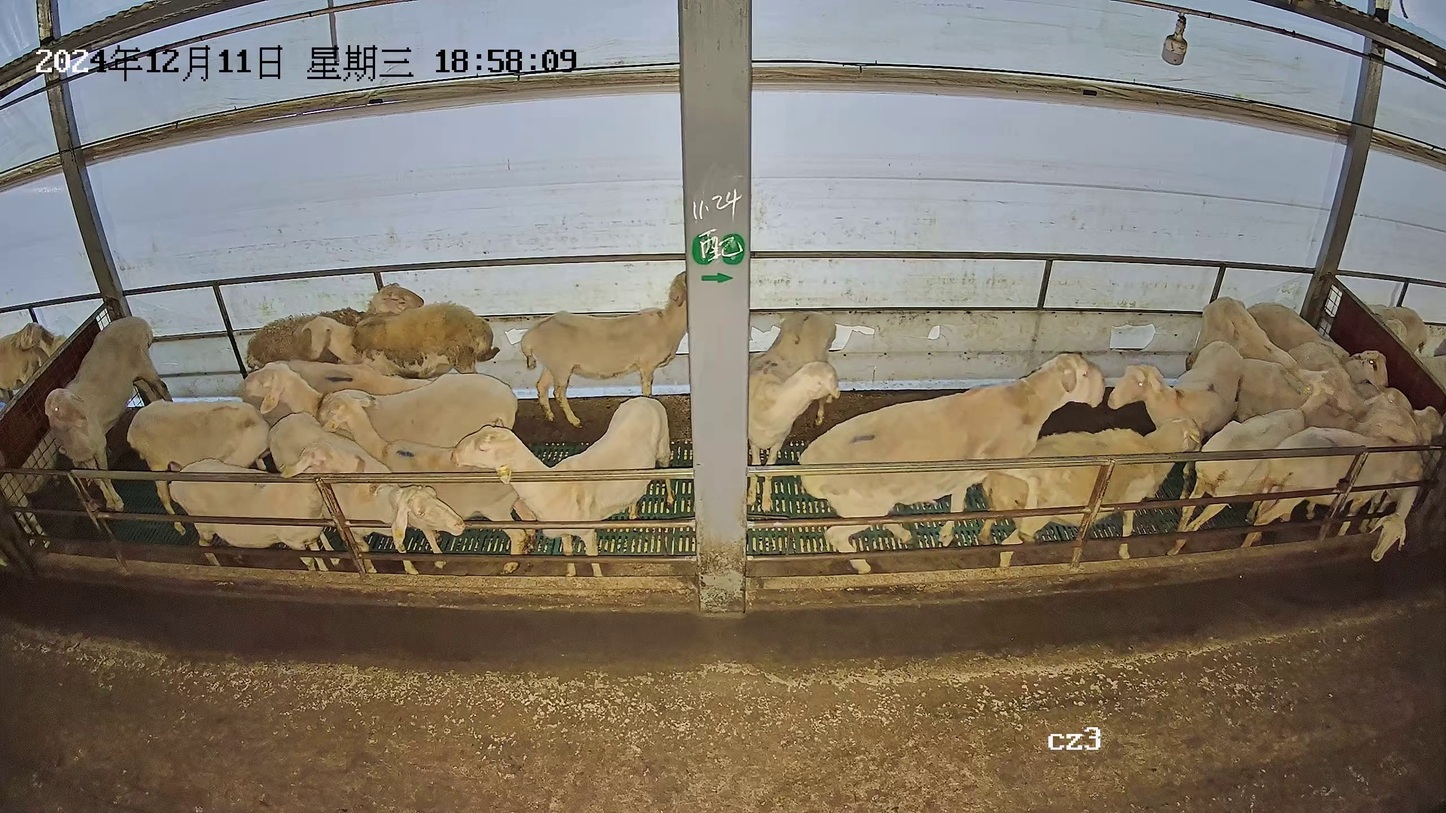Smounting: (795, 349, 1206, 571)
mounted: (978, 416, 1203, 567)
